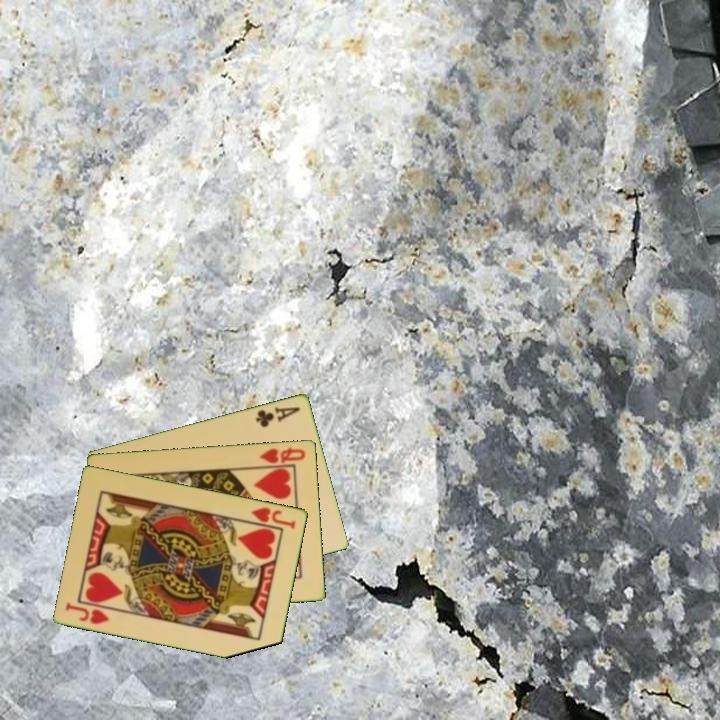Ac: (252, 403, 304, 430)
Jh: (242, 504, 299, 532), (62, 599, 113, 627)
Qh: (256, 443, 309, 466)
